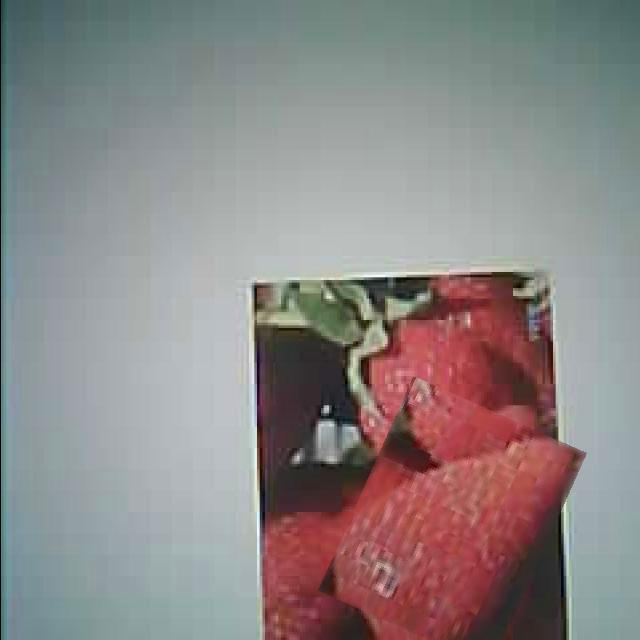strawberry: (337, 391, 566, 640)
